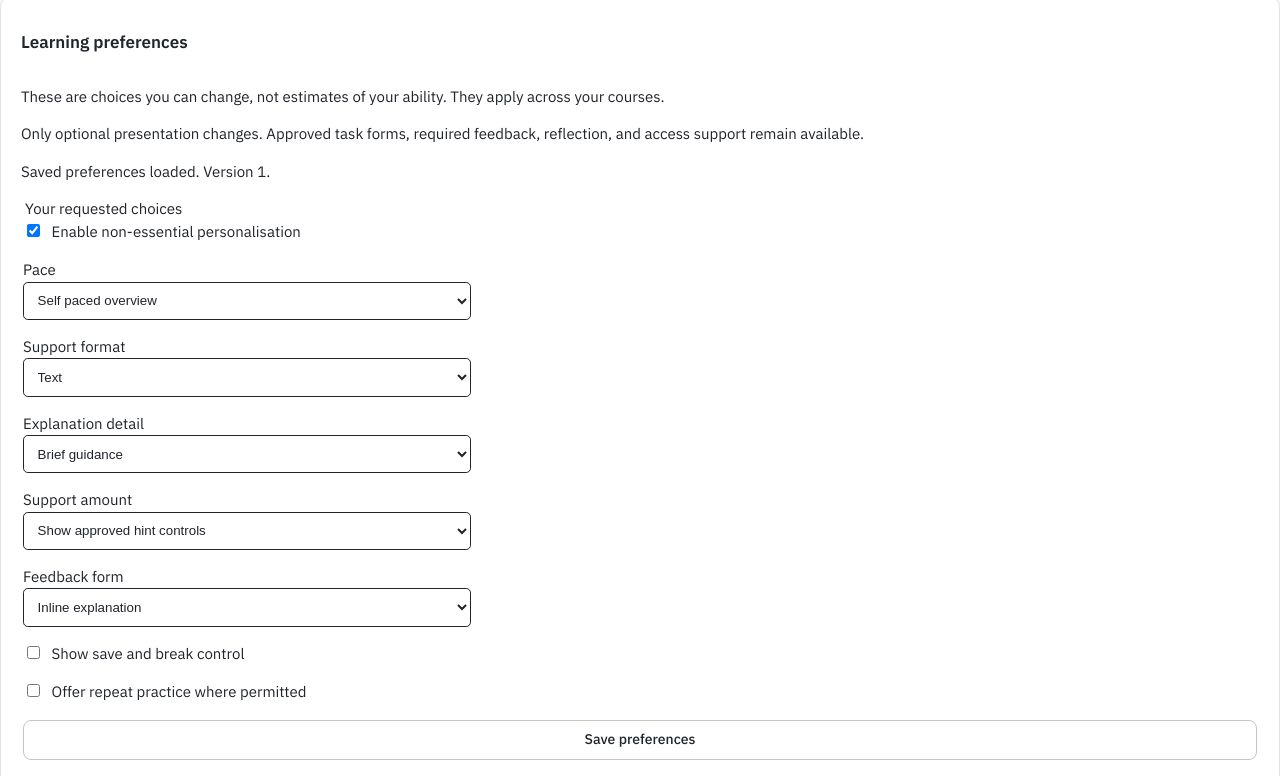
Scenario: conflict requires explicit refresh and retains draft before resaving
Expected: the text "Saved preferences loaded. Version 1." is shown, [21,162,270,181]
Click the checkbox labelled "Show save and break control" at (34, 652), box [27,646,40,659]
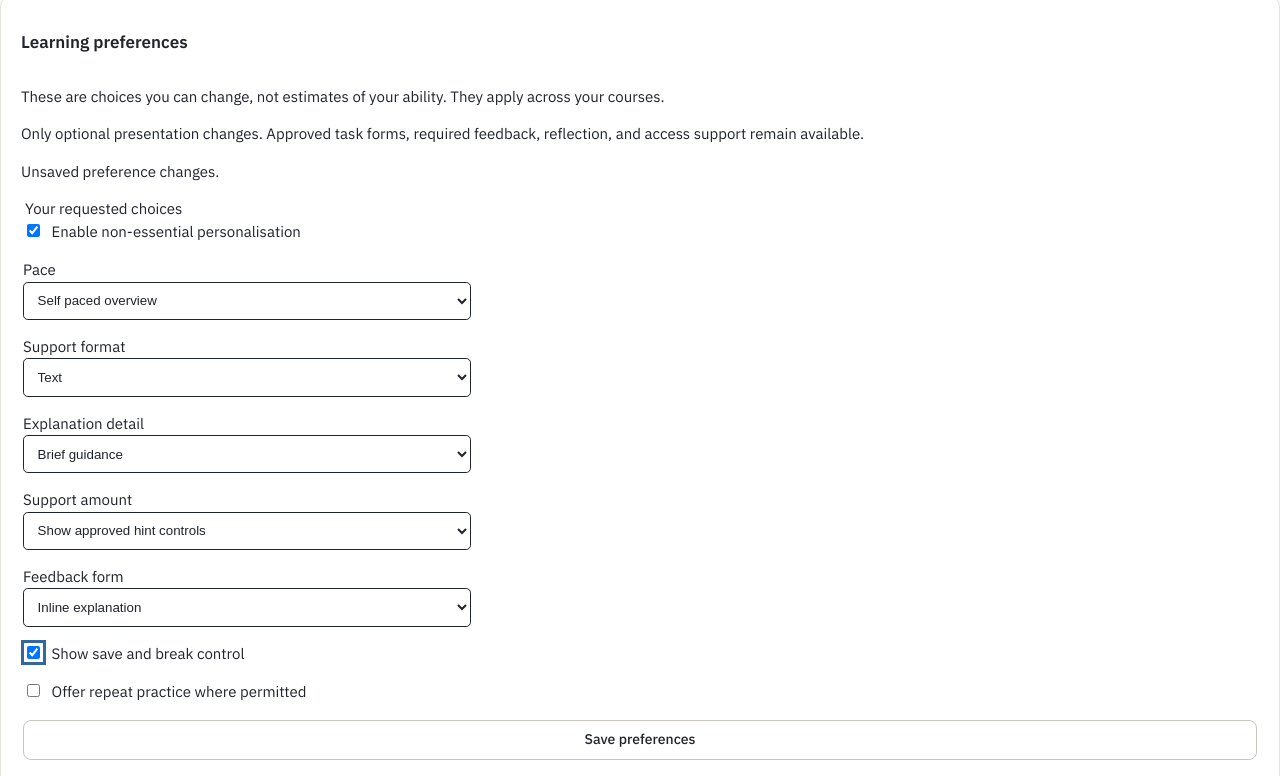
Click the button "Save preferences" at (640, 740), box [23,720,1257,760]
(page scrolled)
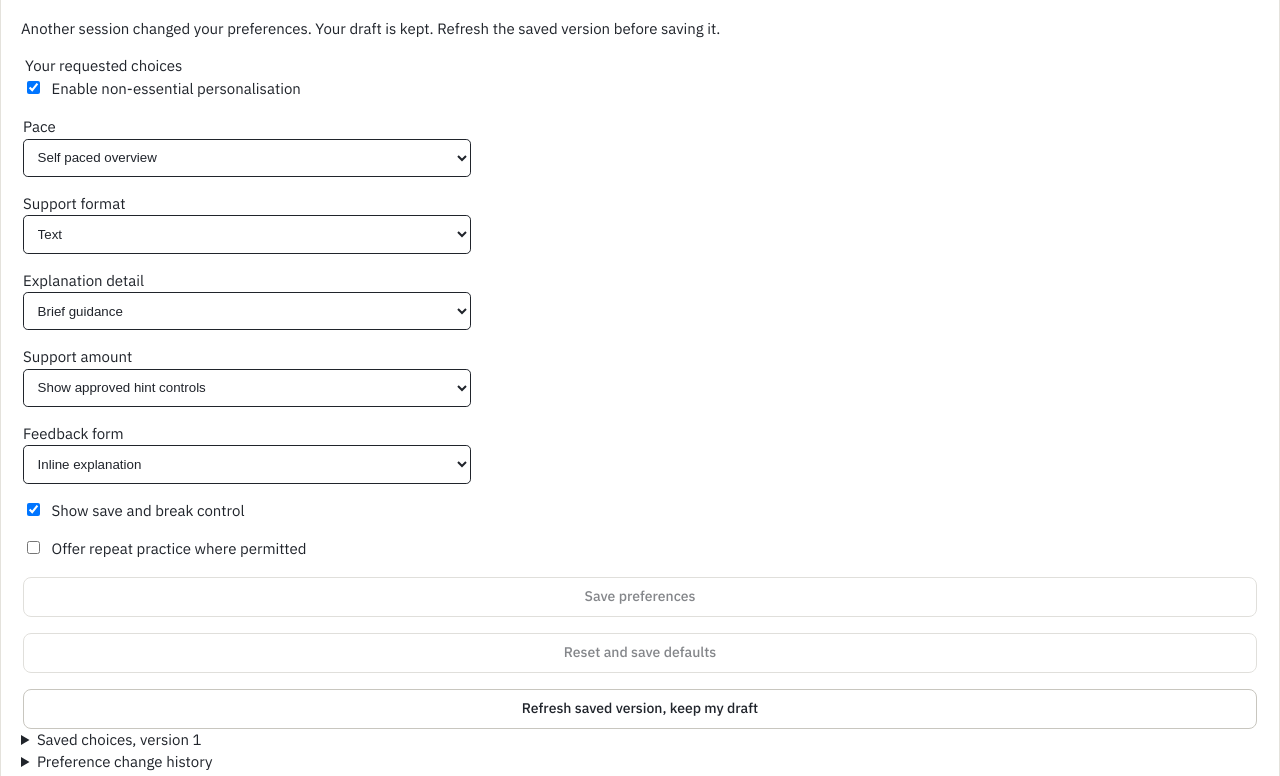
Now the button "Save preferences" is disabled, box [23,577,1257,617]
Click the button "Refresh saved version, keep my draft" at (640, 709), box [23,689,1257,729]
(page scrolled)
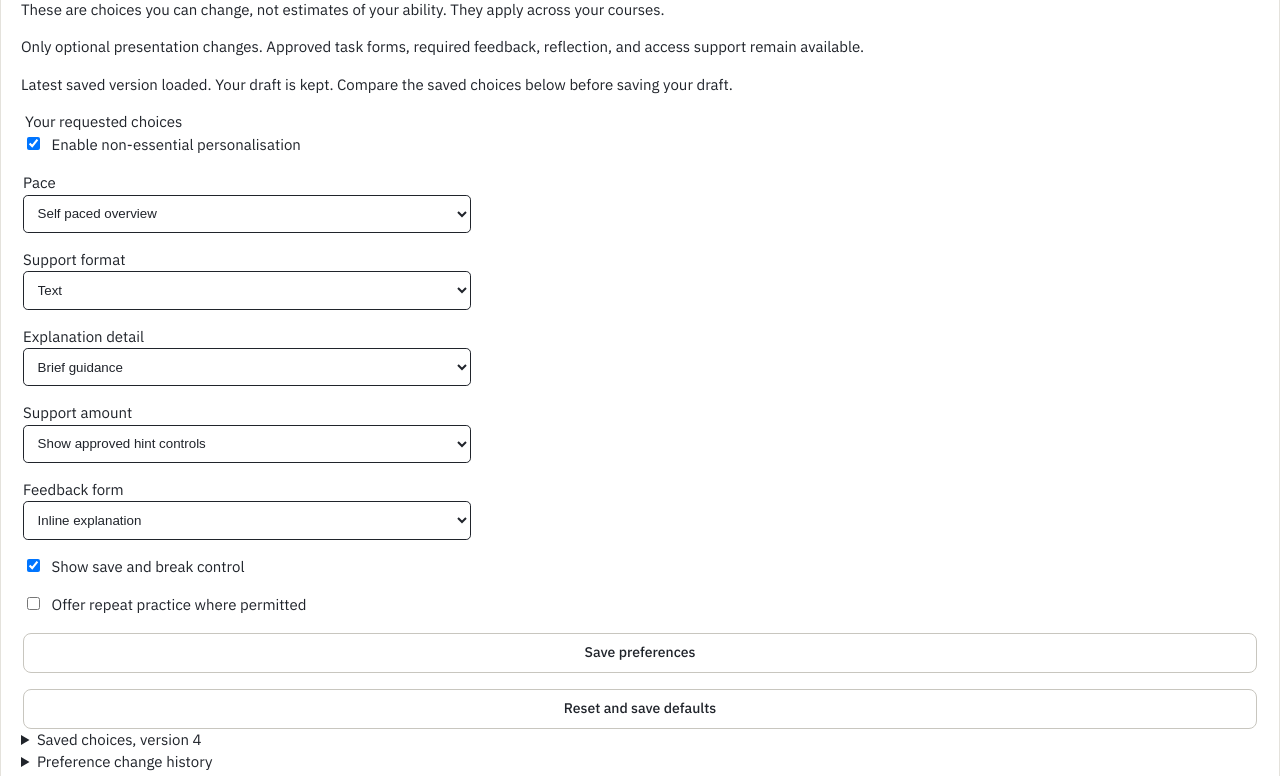
Now the checkbox labelled "Show save and break control" is checked, box [27,559,40,572]
Click the button "Save preferences" at (640, 653), box [23,633,1257,673]
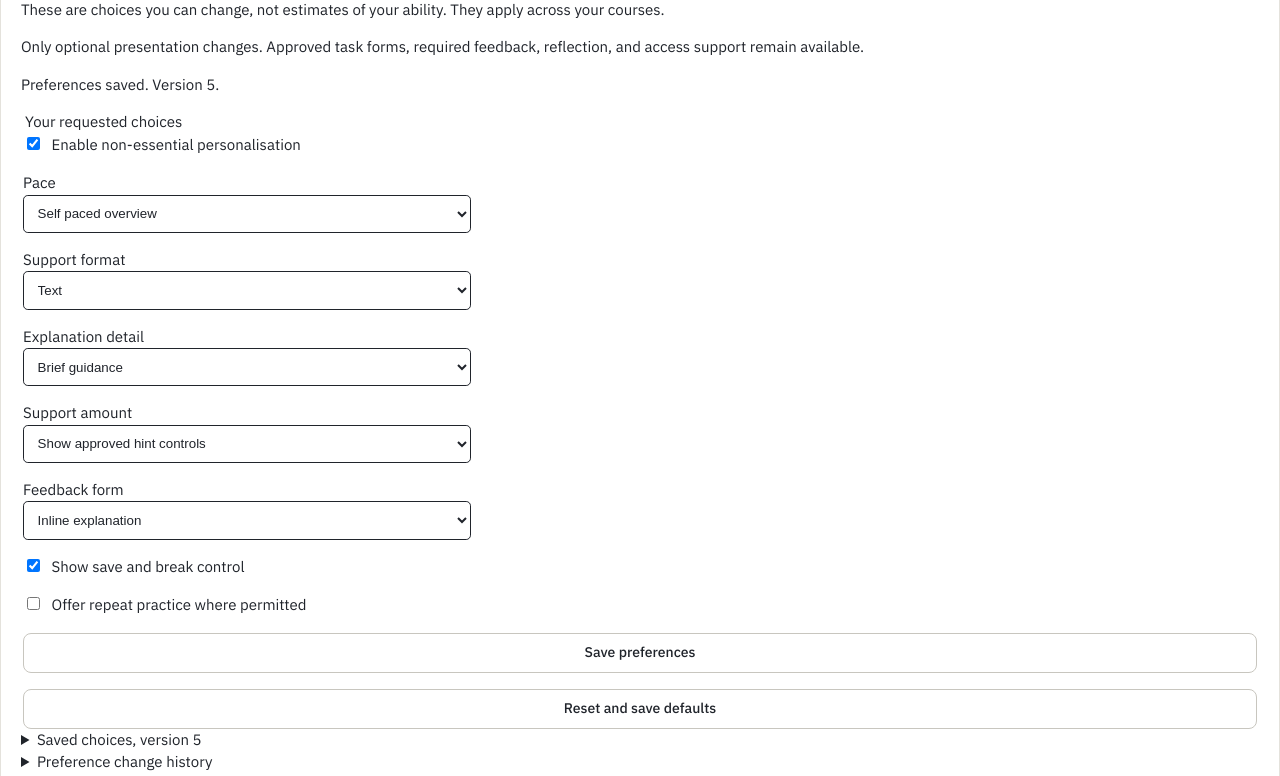
Now the text "Preferences saved. Version 5." is shown, box [21,75,219,94]
